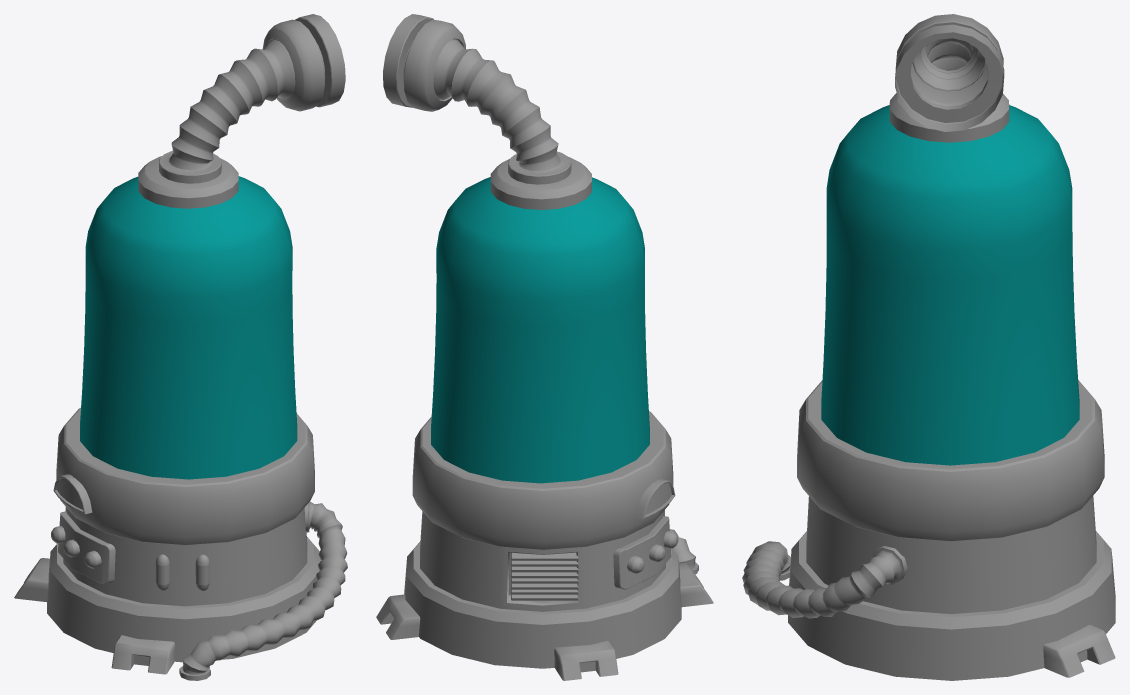
Rendered from bg_mix.FBX.
3 renders of one model, left to right at view 1: azimuth 30°, elevation 25°; view 2: azimuth 150°, elevation 25°; view 3: azimuth 270°, elevation 25°, orthographic. The views are drawn at different scales.
Parts seen in each view (by area): view 1: bg_mix; view 2: bg_mix; view 3: bg_mix.
Boxes of the visible parts, left/top/right/bottom form: bg_mix: left=14, top=14, right=347, bottom=680; bg_mix: left=376, top=14, right=713, bottom=680; bg_mix: left=742, top=14, right=1115, bottom=680.
Size of the model in its own units: 419 by 854 by 439.
